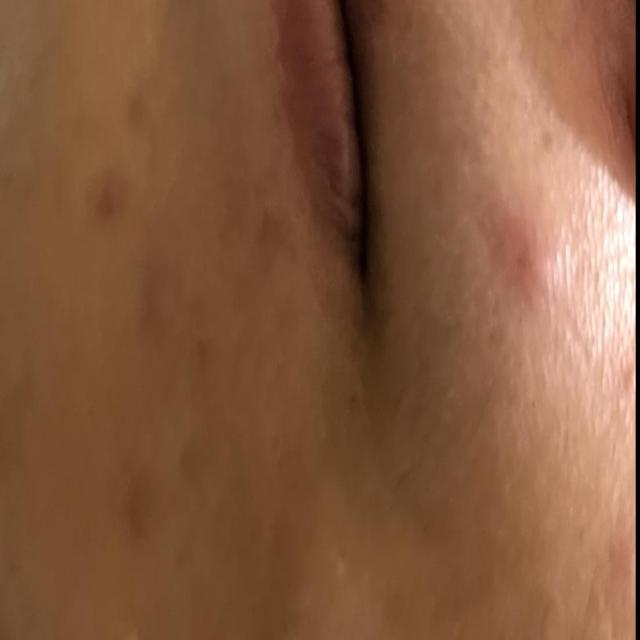papule: (454, 174, 558, 313)
